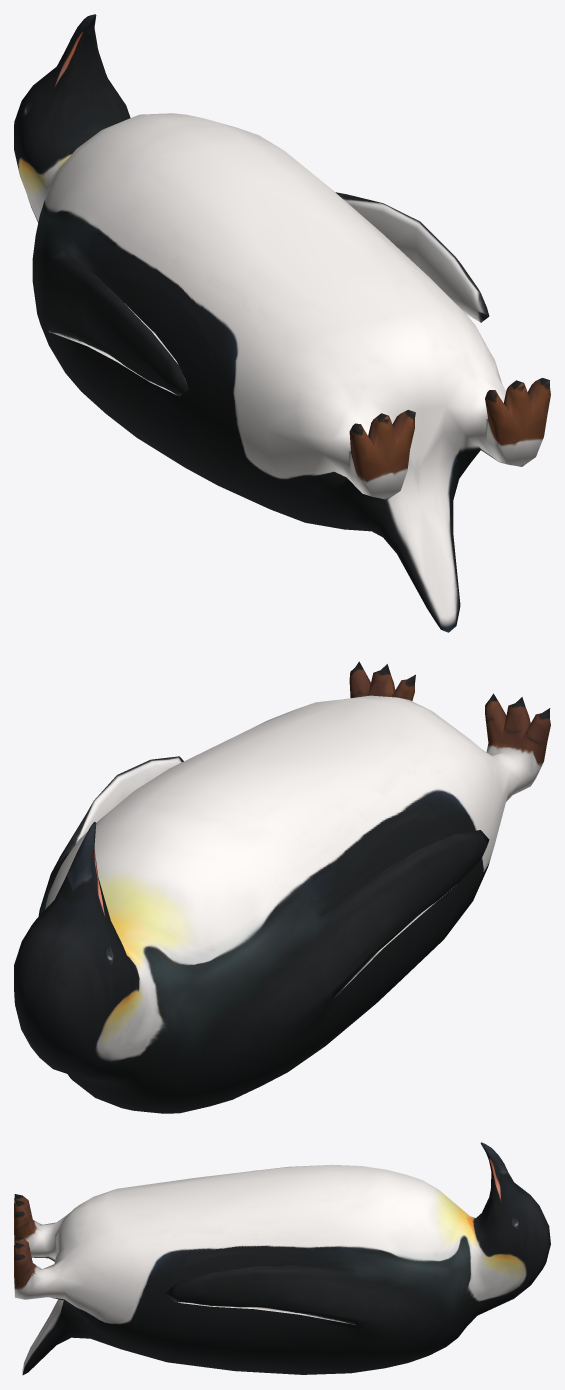
File: Emperor_penguin.glb
The picture shows the model from 3 angles, top to bottom: view 1: azimuth 30°, elevation 25°; view 2: azimuth 150°, elevation 25°; view 3: azimuth 270°, elevation 25°; orthographic projection. The views are drawn at different scales.
Parts seen in each view (by area): view 1: Emp_penguin; view 2: Emp_penguin; view 3: Emp_penguin.
Boxes of the visible parts, x1,y1,x2,y2 form: Emp_penguin: [14, 14, 550, 632]; Emp_penguin: [14, 661, 550, 1113]; Emp_penguin: [14, 1142, 550, 1375].
Size of the model in its own units: 4.99 by 5.38 by 11.22.
Materials: 1 (1 with a texture image).
